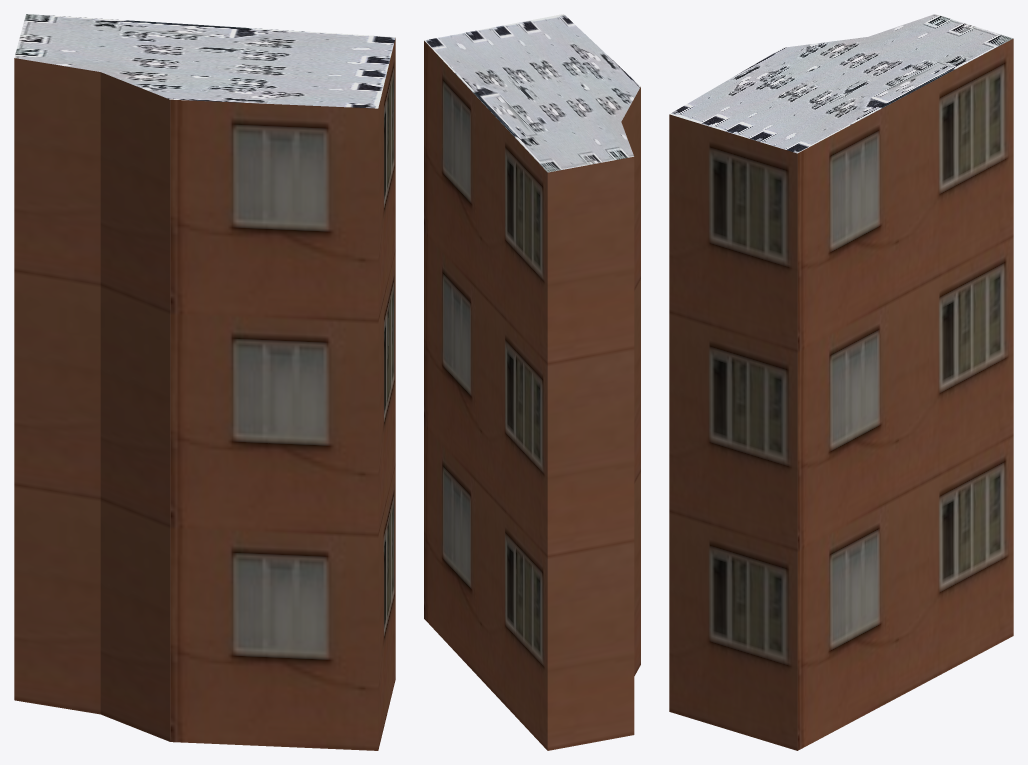
Rendered from ResTex__1038.fbx.
The picture shows the model from 3 angles, left to right: view 1: azimuth 30°, elevation 25°; view 2: azimuth 150°, elevation 25°; view 3: azimuth 270°, elevation 25°; orthographic projection. The views are drawn at different scales.
Parts seen in each view (by area): view 1: CityEngineMaterial_20_m, CityEngineMaterial_m; view 2: CityEngineMaterial_20_m, CityEngineMaterial_m; view 3: CityEngineMaterial_20_m, CityEngineMaterial_m.
Boxes of the visible parts, box(x1,y1,x2,y2) form: CityEngineMaterial_20_m: box(14, 38, 395, 750); CityEngineMaterial_m: box(14, 14, 395, 108); CityEngineMaterial_20_m: box(424, 41, 640, 750); CityEngineMaterial_m: box(424, 14, 640, 172); CityEngineMaterial_20_m: box(669, 38, 1013, 750); CityEngineMaterial_m: box(669, 14, 1013, 153).
Size of the model in its own units: 4.51 by 9 by 4.7.
Materials: 2 (2 with a texture image).
